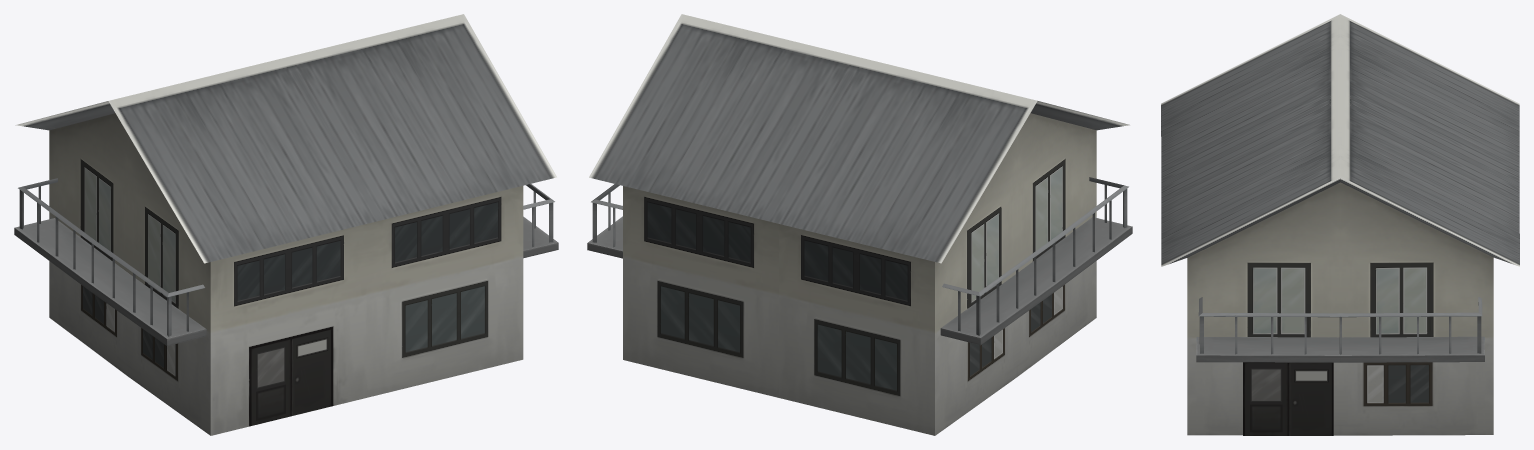
File: Maihan_Lubianjianzhu_01.FBX
The picture shows the model from 3 angles, left to right: view 1: azimuth 30°, elevation 25°; view 2: azimuth 150°, elevation 25°; view 3: azimuth 270°, elevation 25°; orthographic projection. The views are drawn at different scales.
Visible parts, largest first — view 1: Maihan_Lubianjianzhu_01; view 2: Maihan_Lubianjianzhu_01; view 3: Maihan_Lubianjianzhu_01.
Part boxes in pixels (x1,y1,x2,y2): Maihan_Lubianjianzhu_01: [14, 14, 558, 435]; Maihan_Lubianjianzhu_01: [587, 14, 1132, 435]; Maihan_Lubianjianzhu_01: [1161, 14, 1519, 435].
Size of the model in its own units: 1628 by 1108 by 1351.
